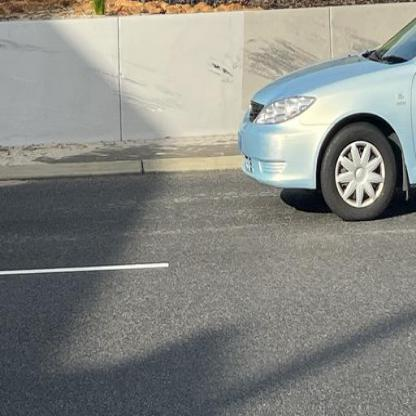Tire: (319, 121, 397, 222)
